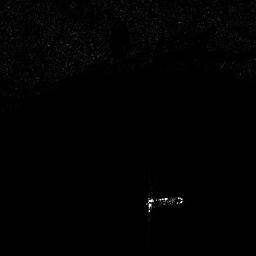ship: (143, 192, 186, 215)
